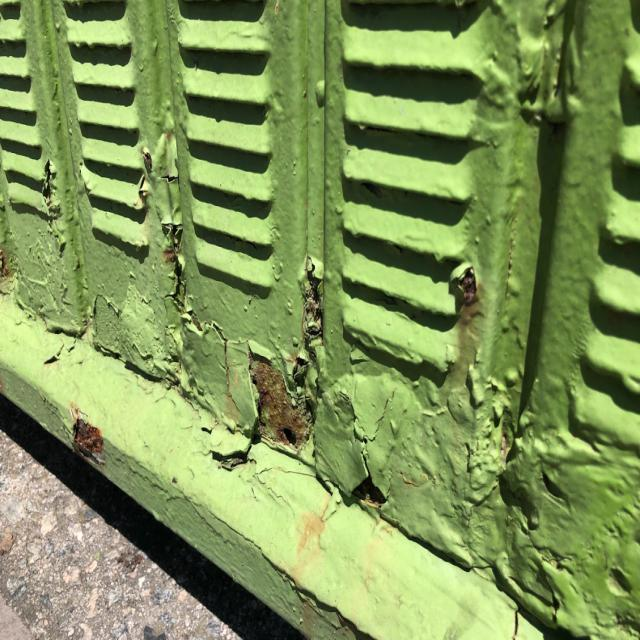Corrosion: (0, 0, 638, 638), (248, 355, 312, 451), (71, 416, 104, 458)
